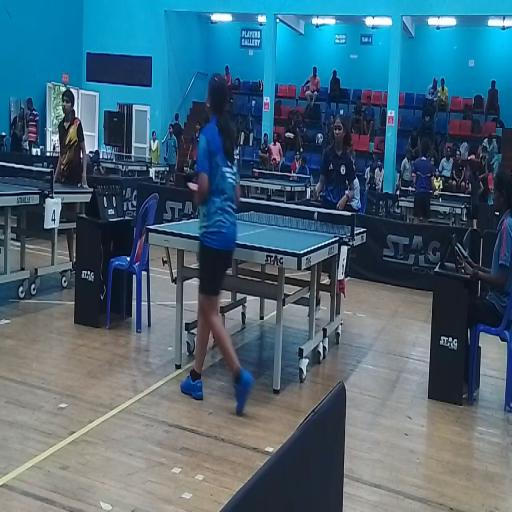ball: (314, 208, 318, 220)
